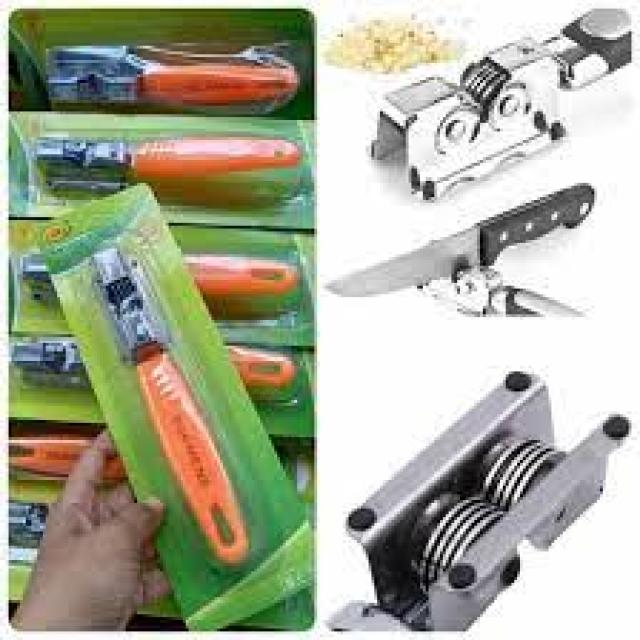Knife: (319, 156, 629, 360)
